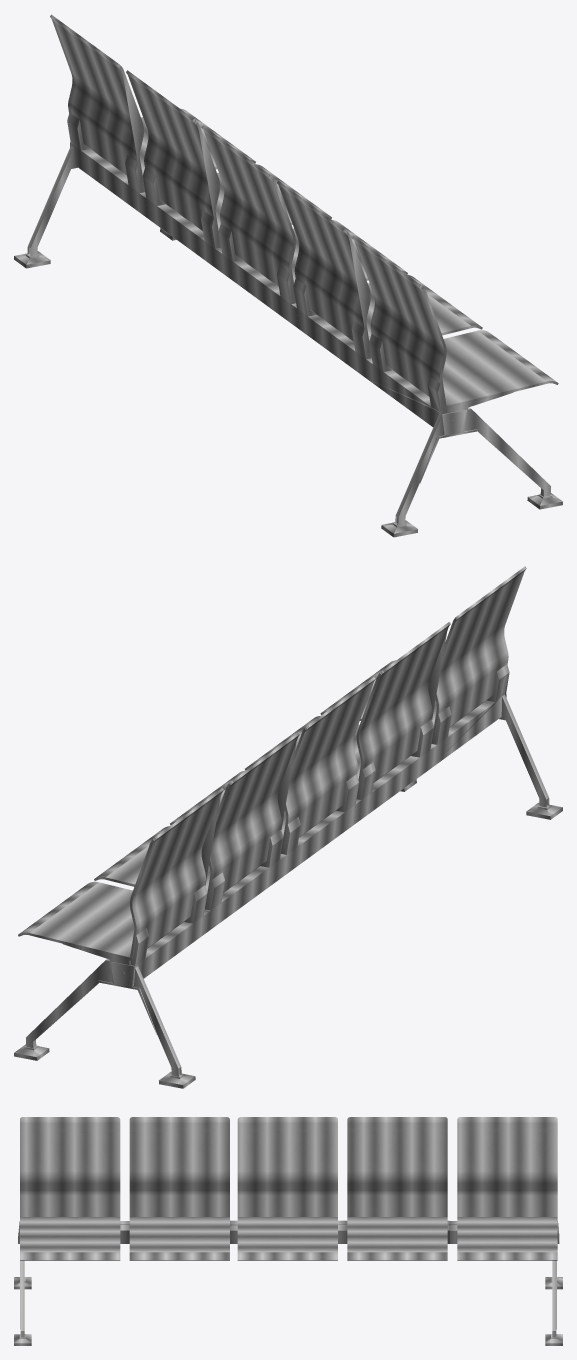
The model's file is asientos.obj.
The picture shows the model from 3 angles, top to bottom: view 1: azimuth 30°, elevation 25°; view 2: azimuth 150°, elevation 25°; view 3: azimuth 270°, elevation 25°; orthographic projection. The views are drawn at different scales.
Visible parts, largest first — view 1: Mesh1 Model; view 2: Mesh1 Model; view 3: Mesh1 Model.
Boxes of the visible parts, bbox=[...] form: Mesh1 Model: bbox=[14, 14, 562, 537]; Mesh1 Model: bbox=[14, 566, 562, 1088]; Mesh1 Model: bbox=[14, 1117, 562, 1345].
Size of the model in its own units: 616 by 868 by 2393.
1 material, 1 textured.
